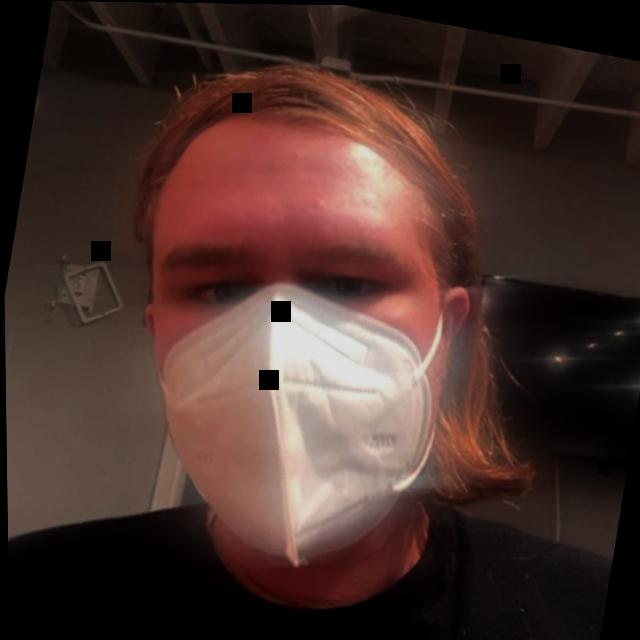Mask: (59, 15, 583, 640)
